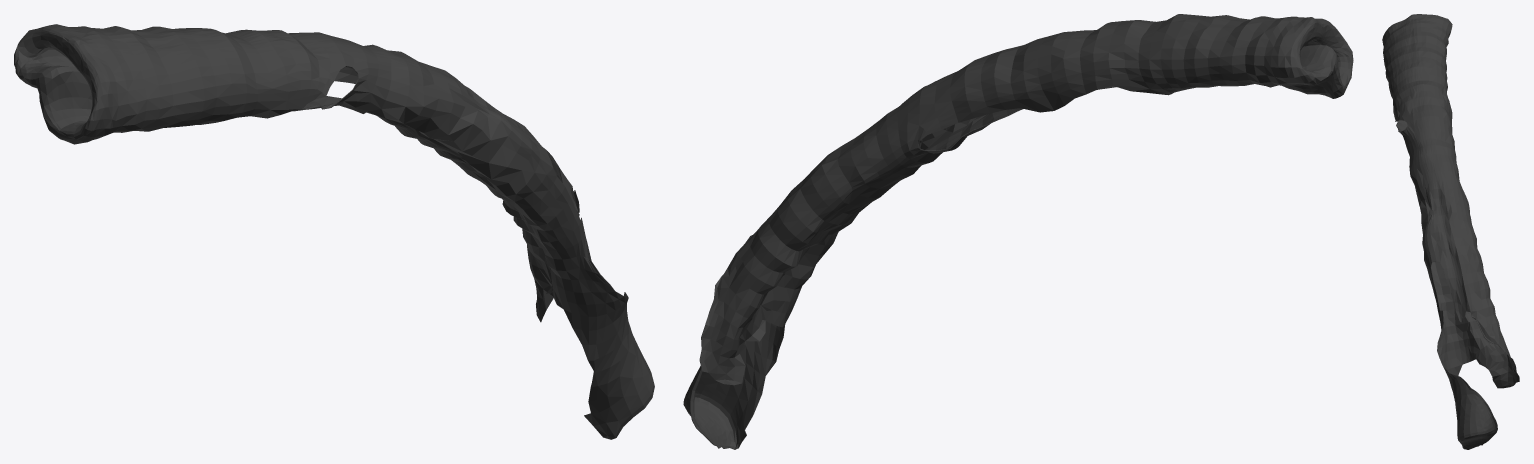
File: Pipes_trachea.glb
3 renders of one model, left to right at view 1: azimuth 30°, elevation 25°; view 2: azimuth 150°, elevation 25°; view 3: azimuth 270°, elevation 25°, orthographic. The views are drawn at different scales.
Parts seen in each view (by area): view 1: Pipes_trachea; view 2: Pipes_trachea; view 3: Pipes_trachea.
Boxes of the visible parts, <box> form: Pipes_trachea: <box>14,24,654,439</box>; Pipes_trachea: <box>683,14,1353,449</box>; Pipes_trachea: <box>1382,14,1519,449</box>.
Bounding box in the file's own units: 1.08 × 0.896 × 0.3826.
1 material, 1 textured.
